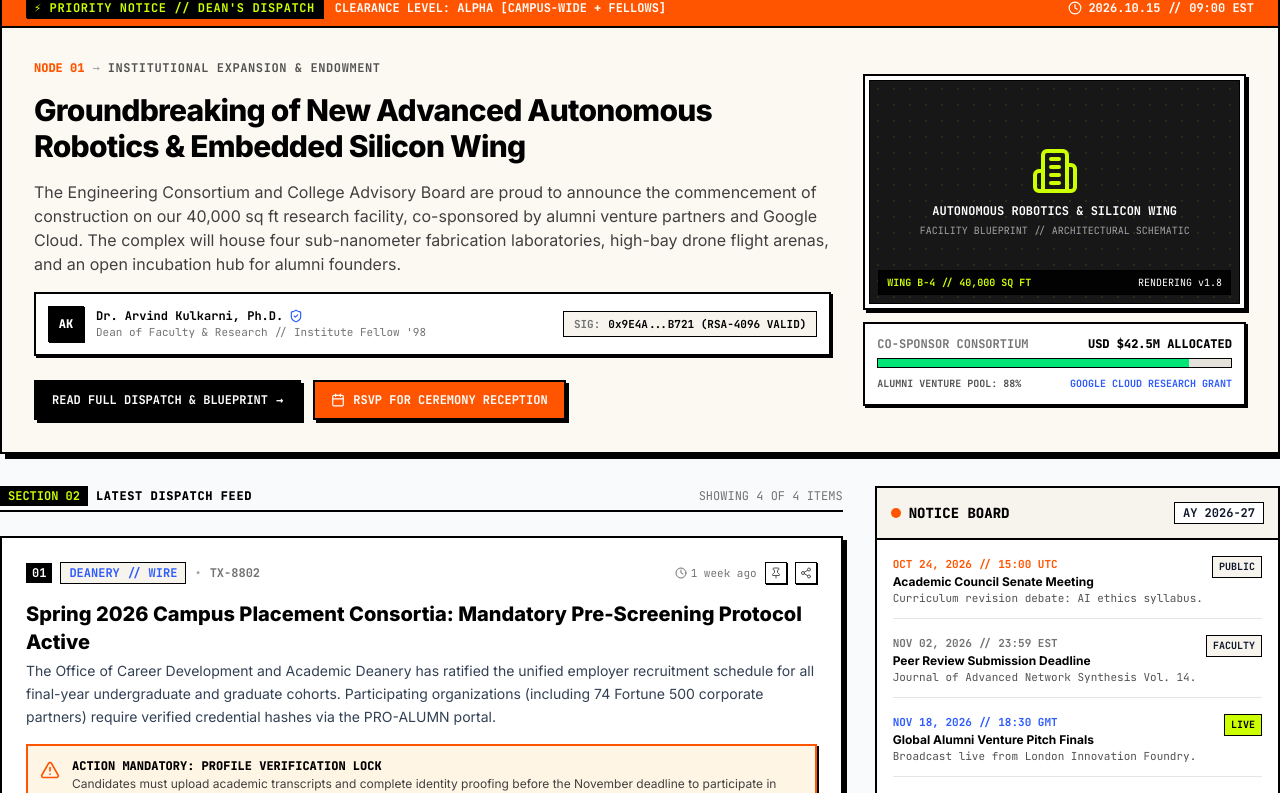
Test: AnnouncementsContent (Neobrutalist Campus Wire) › opens the RSVP Reception modal when clicked
(page scrolled)
Click the button "RSVP FOR CEREMONY RECEPTION".
click(440, 400)  # box [313,380,566,420]
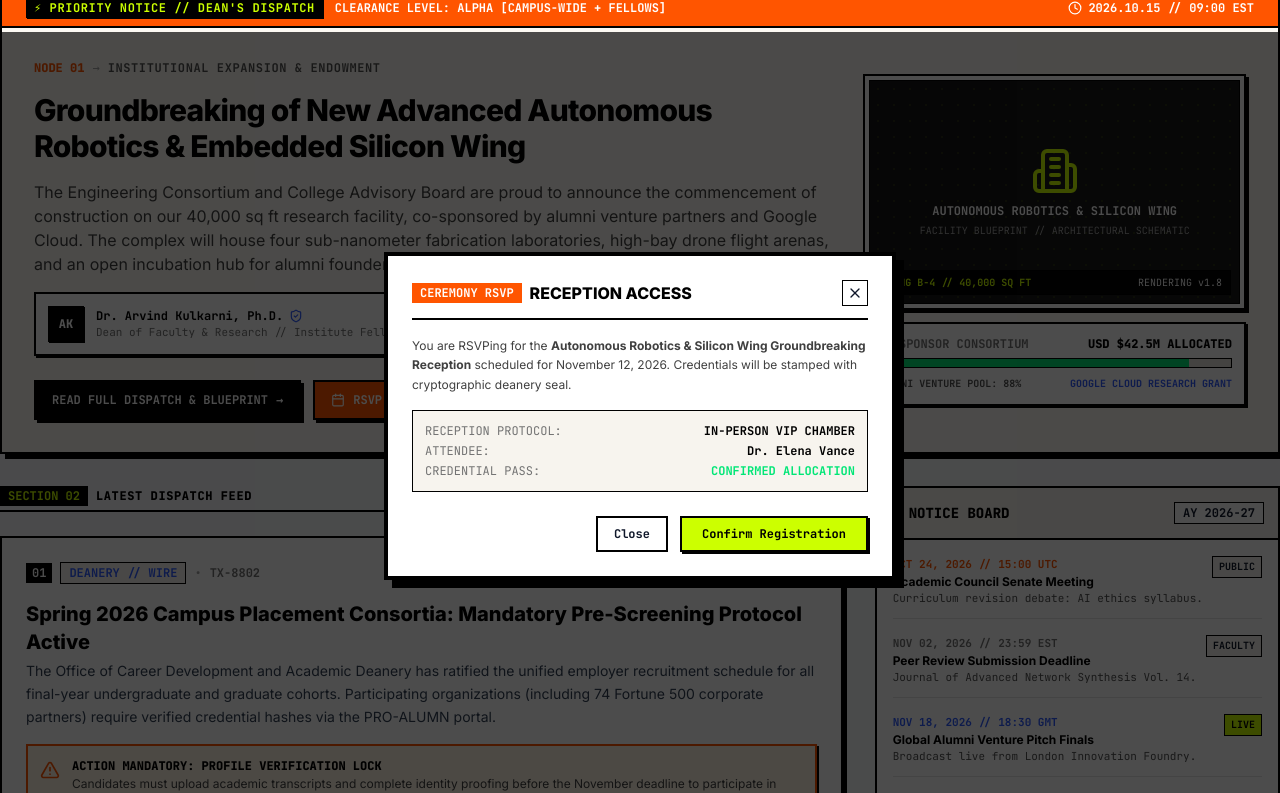
Expected: the text "Reception Access" is shown, [530,281,692,305]
Expected: the button "Confirm Registration" is shown, [680,516,868,552]
